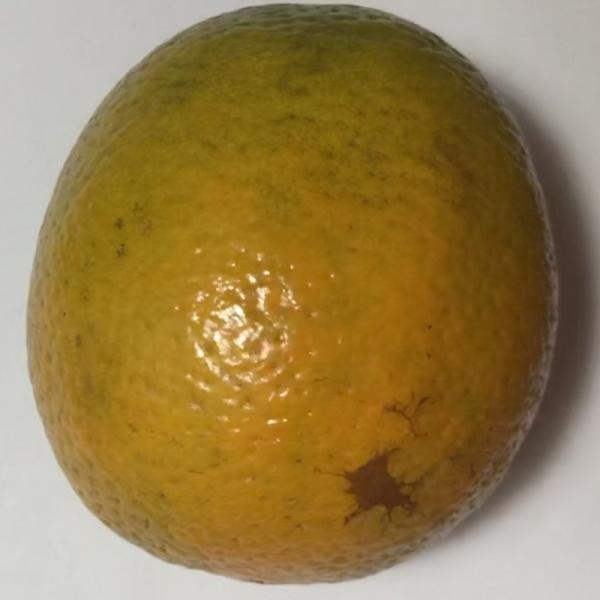Machas negras: (18, 0, 571, 586)
